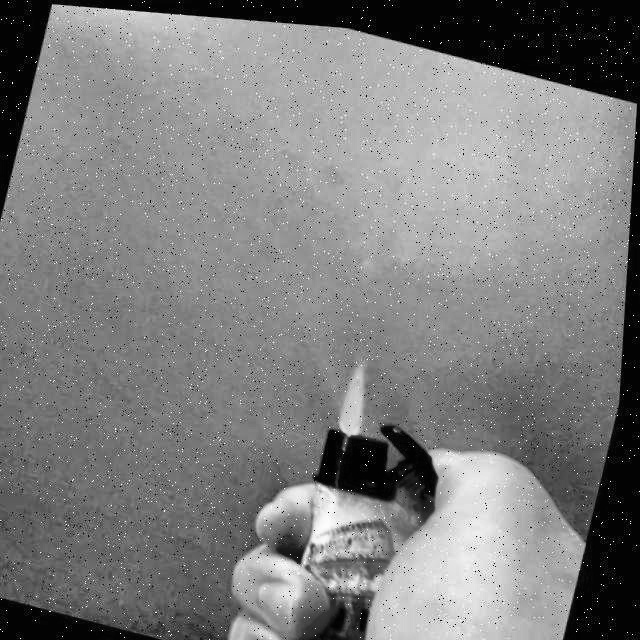Fire: (337, 352, 381, 430)
